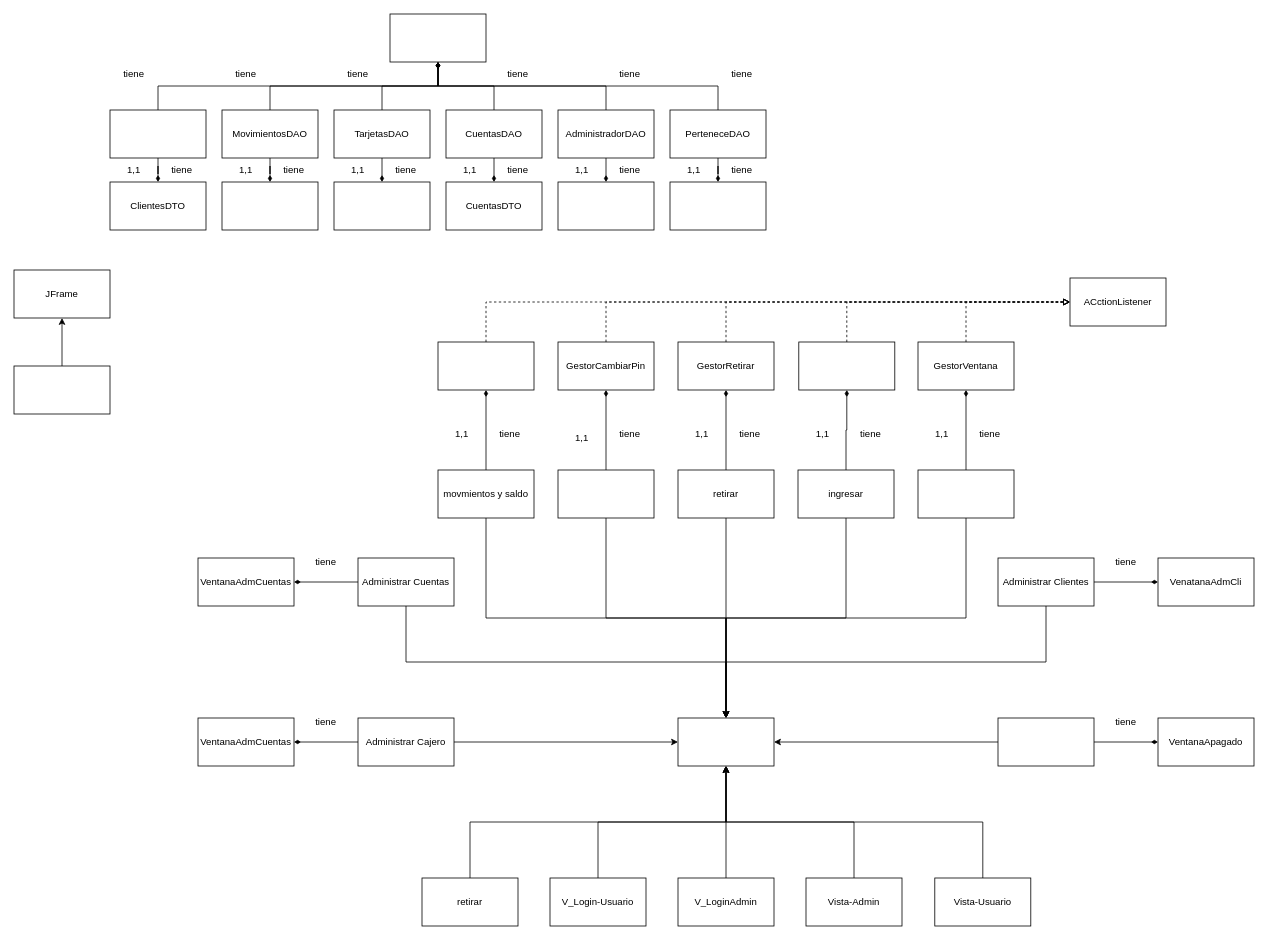
Image size: 1268x940. Some labels were removed from this diagram. Each missing label, with the centre of its shape:
"AdministradorDTO" goes at pixel 605 205.
"Administrar Tarjetas" goes at pixel 965 493.
"Cajero-Apagado" goes at pixel 1045 741.
"cambiar PIN" goes at pixel 605 493.
"ClientesDAO" goes at pixel 157 133.
"Conexion" goes at pixel 437 37.
"GestorIngresar" goes at pixel 846 365.
"GestorVerMovimientos" goes at pixel 485 365.
"JPanel" goes at pixel 725 741.
"MovimientosDTO" goes at pixel 269 205.
"PerteneceDTO" goes at pixel 717 205.
"TarjetasDTO" goes at pixel 381 205.
"Vista" goes at pixel 61 389.
